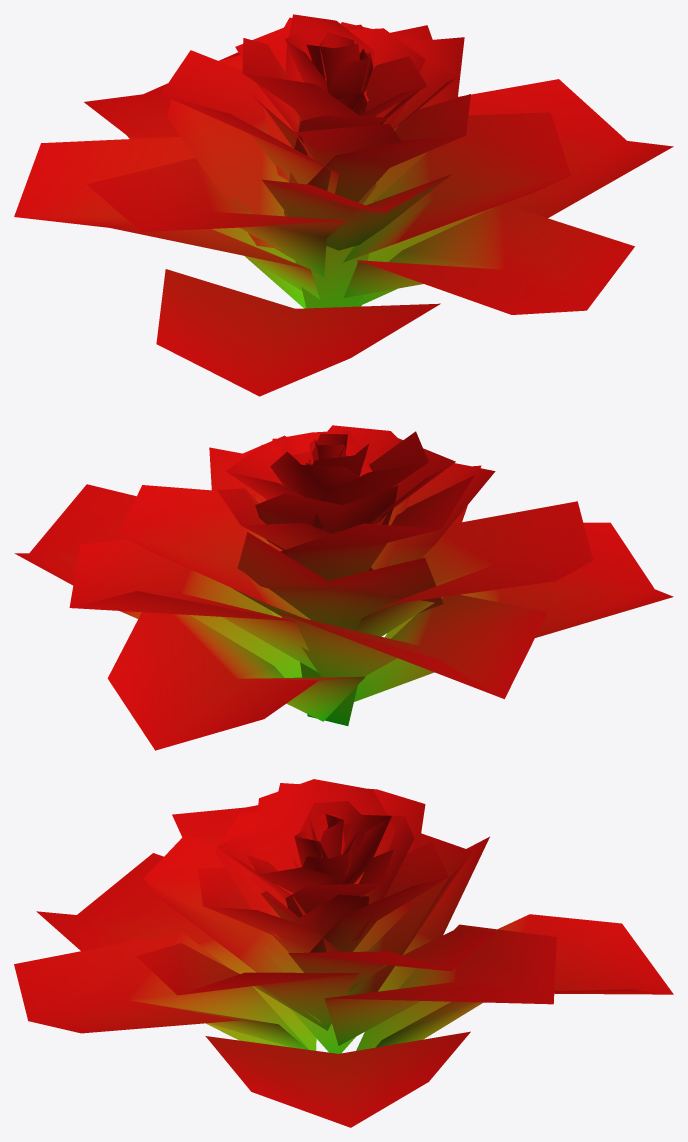
Rendered from Purple Ornamental Kale_LOD5_Var9_ugdieawja.fbx.
3 renders of one model, top to bottom at view 1: azimuth 30°, elevation 25°; view 2: azimuth 150°, elevation 25°; view 3: azimuth 270°, elevation 25°, orthographic. The views are drawn at different scales.
Visible parts, largest first — view 1: _4868_Var9_LOD5; view 2: _4868_Var9_LOD5; view 3: _4868_Var9_LOD5.
Part boxes in pixels (x1=…): _4868_Var9_LOD5: x1=14, y1=14, x2=673, y2=396; _4868_Var9_LOD5: x1=14, y1=425, x2=673, y2=750; _4868_Var9_LOD5: x1=14, y1=779, x2=673, y2=1127.
Size of the model in its own units: 47.37 by 23.57 by 50.79.
